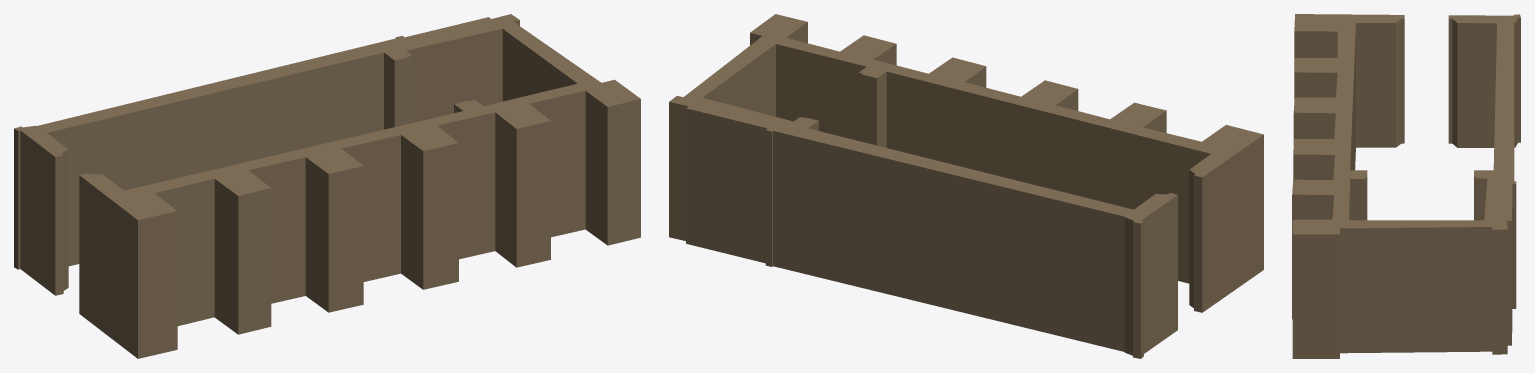
File: Carmine1.glb
The picture shows the model from 3 angles, left to right: view 1: azimuth 30°, elevation 25°; view 2: azimuth 150°, elevation 25°; view 3: azimuth 270°, elevation 25°; orthographic projection. The views are drawn at different scales.
Parts seen in each view (by area): view 1: Carmine1; view 2: Carmine1; view 3: Carmine1.
Boxes of the visible parts, left/top/right/bottom form: Carmine1: left=14, top=14, right=640, bottom=358; Carmine1: left=669, top=14, right=1263, bottom=358; Carmine1: left=1292, top=14, right=1520, bottom=358.
Size of the model in its own units: 38.94 by 10.29 by 17.09.
